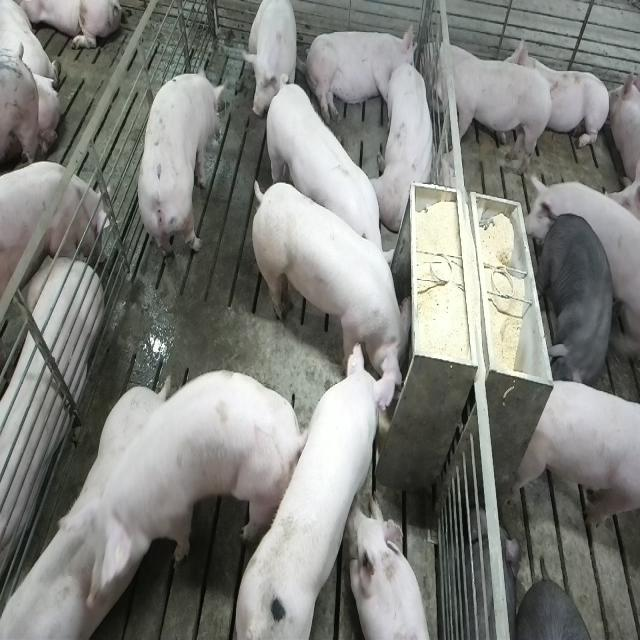Feeding: (238, 332, 408, 635), (254, 172, 419, 398)
Lateral_lying: (0, 249, 102, 621), (304, 23, 417, 128)
Sitting: (246, 2, 300, 120)
Standing: (4, 383, 177, 640), (135, 368, 304, 614), (262, 74, 394, 286), (3, 496, 149, 638), (514, 376, 639, 539), (138, 65, 229, 272), (424, 45, 556, 181), (0, 161, 110, 302), (538, 208, 616, 386)
Sternal_lying: (503, 29, 608, 153), (352, 499, 434, 640), (375, 60, 438, 231)
